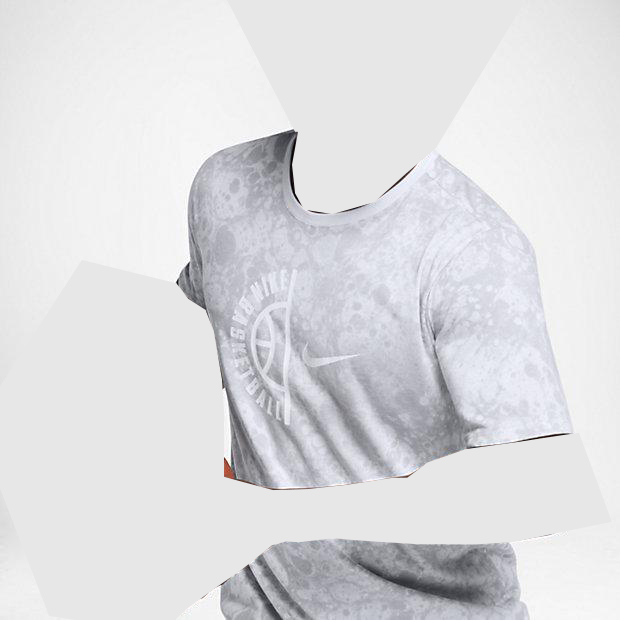teeshirt: (172, 125, 576, 620)
